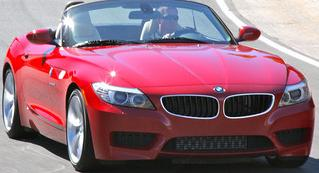front_view: (86, 74, 315, 163)
headlight: (89, 78, 157, 114)
